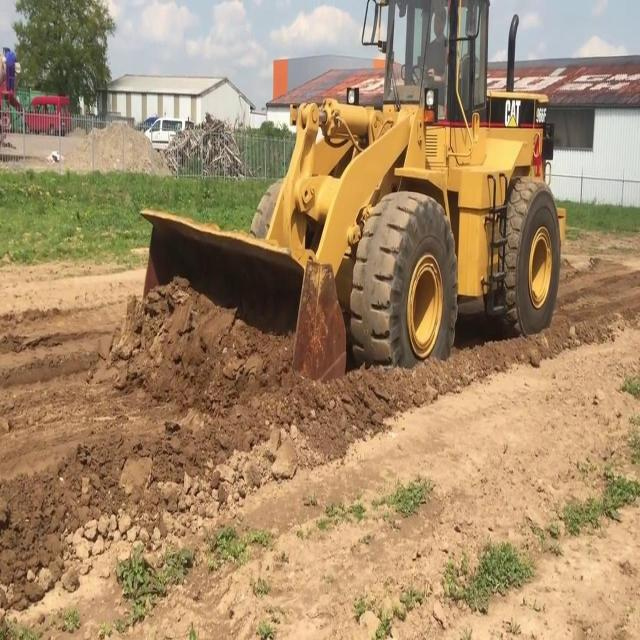buldozerpayloadergrader: (136, 1, 562, 384)
